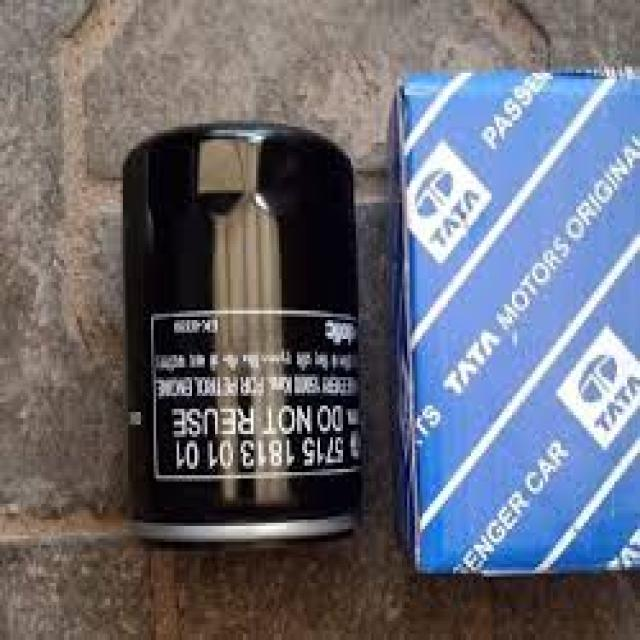oil_filter: (111, 123, 368, 541)
